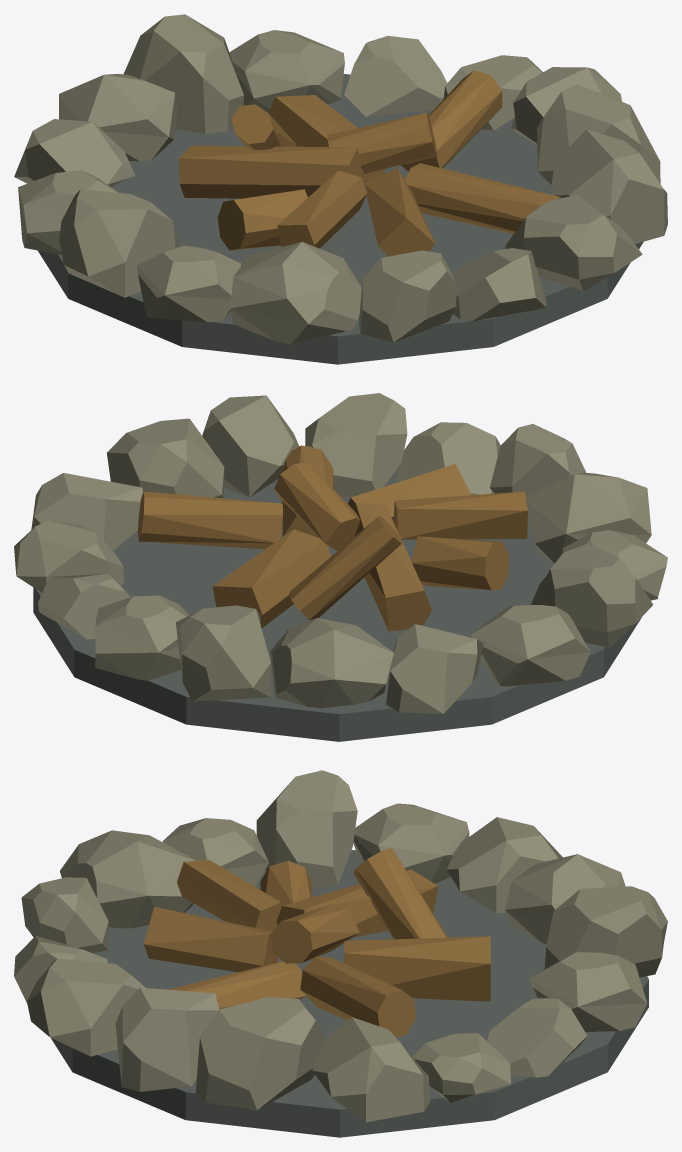
The model's file is FirePit.fbx.
3 views of the same model, one above another, from view 1: azimuth 30°, elevation 25°; view 2: azimuth 150°, elevation 25°; view 3: azimuth 270°, elevation 25° (orthographic).
Parts seen in each view (by area): view 1: RockPlane, Rock4, Rock6, Rock9, Log6, Rock13, Rock12, Rock10, Rock0, Rock1, Rock3, Rock5 (+14 smaller); view 2: RockPlane, Rock0, Rock6, Rock12, Rock9, Rock4, Rock2, Rock14, Log2, Rock7, Rock13, Rock1 (+14 smaller); view 3: RockPlane, Rock14, Rock13, Rock15, Rock9, Rock4, Rock6, Log7, Rock12, Rock1, Log8, Rock7 (+14 smaller).
Boxes of the visible parts, x1,y1,x2,y2 form: RockPlane: (38,74,643,364); Rock4: (230,241,361,344); Rock6: (123,14,243,134); Rock9: (59,189,177,297); Log6: (179,145,364,198); Rock13: (550,129,667,243); Rock12: (505,195,642,291); Rock10: (359,250,456,342); Rock0: (59,74,177,161); Rock1: (229,30,344,113); Rock3: (137,245,241,322); Rock5: (344,36,447,116); RockPlane: (33,469,641,741); Rock0: (270,618,393,708); Rock6: (176,605,270,701); Rock12: (305,393,407,496); Rock9: (531,543,652,647); Rock4: (525,472,651,563); Rock2: (470,605,590,686); Rock14: (107,418,224,498); Log2: (138,491,282,549); Rock7: (386,624,483,713); Rock13: (202,395,299,497); Rock1: (95,595,188,680); RockPlane: (51,850,648,1137); Rock14: (195,997,323,1110); Rock13: (115,987,219,1091); Rock15: (312,1017,430,1122); Rock9: (256,770,357,888); Rock4: (60,830,196,928); Rock6: (544,886,667,977); Log7: (344,936,490,1001); Rock12: (27,958,145,1056); Rock1: (529,951,647,1032); Log8: (144,906,278,972); Rock7: (446,817,562,913).
Bounding box in the file's own units: 435 × 90.7 × 423.
